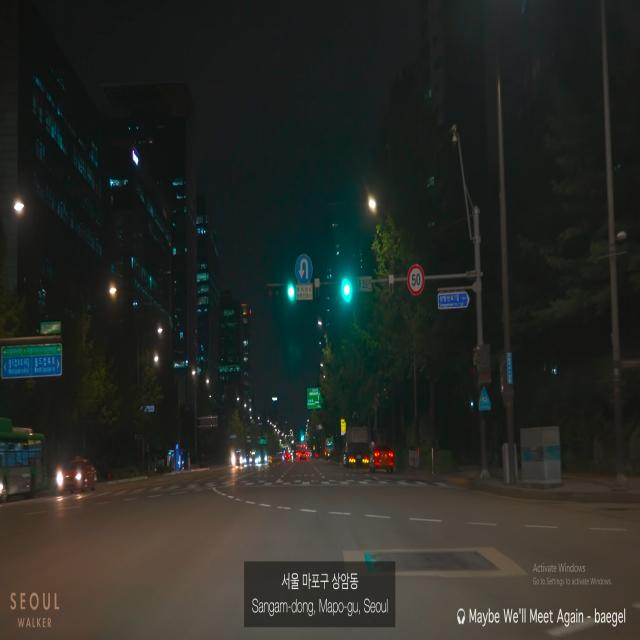headlights: (50, 467, 88, 488)
